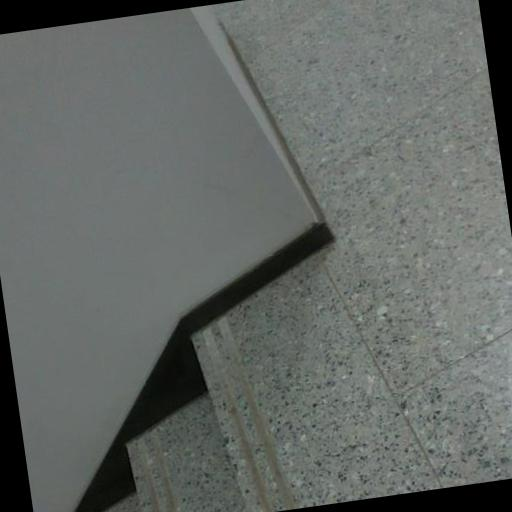stairs: (108, 257, 440, 511), (129, 395, 245, 511), (107, 494, 140, 511)
